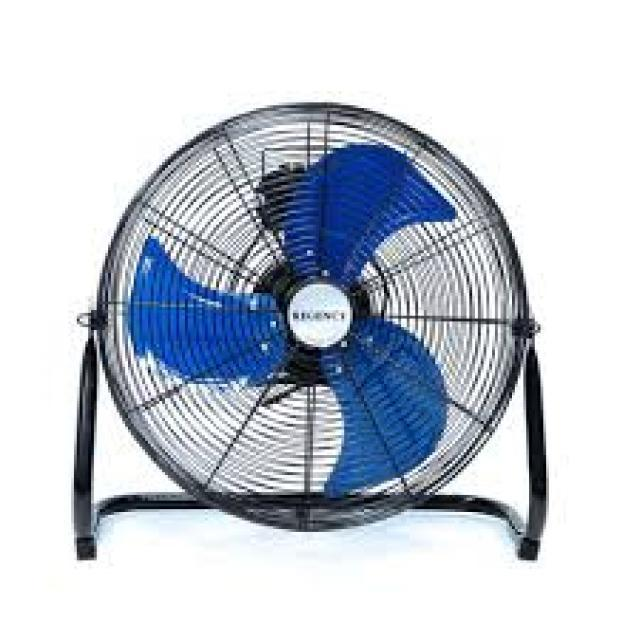fan: (36, 83, 577, 590)
